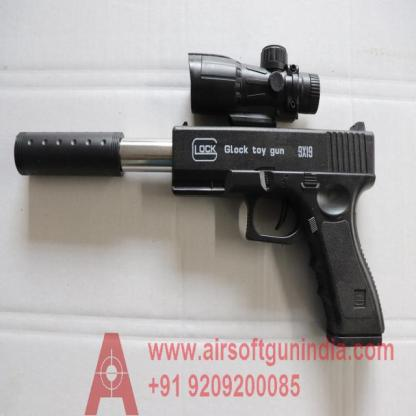handgun: (12, 37, 388, 351)
